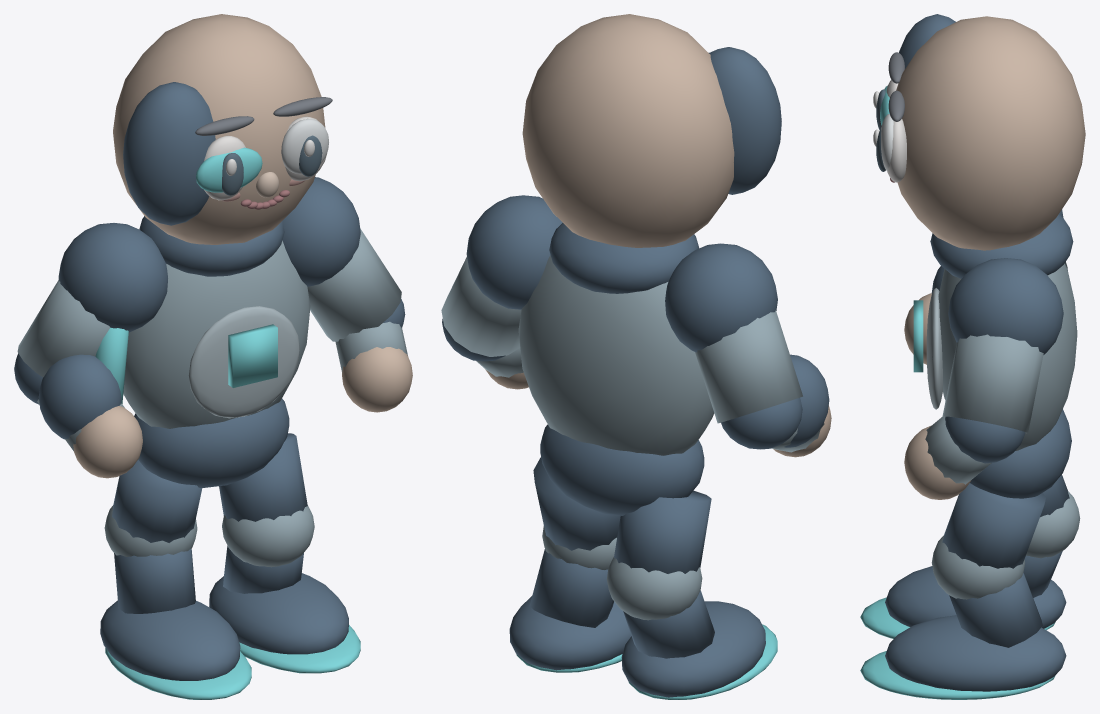
Rendered from 08_cyborg.glb.
3 renders of one model, left to right at view 1: azimuth 30°, elevation 25°; view 2: azimuth 150°, elevation 25°; view 3: azimuth 270°, elevation 25°, orthographic. The views are drawn at different scales.
Parts seen in each view (by area): view 1: 08_cyborg_face_025, 08_cyborg_outfit-torso_001, 08_cyborg_robot-face_044, 08_cyborg_pauldron_009, 08_cyborg_oversized-boot_018, 08_cyborg_shorts_002, 08_cyborg_oversized-boot_023, 08_cyborg_chest-piece_004, 08_cyborg_pauldron_014, 08_cyborg_upper-arm_010, 08_cyborg_upper-leg_015, 08_cyborg_robot-hand_047 (+22 smaller); view 2: 08_cyborg_face_025, 08_cyborg_outfit-torso_001, 08_cyborg_shorts_002, 08_cyborg_pauldron_009, 08_cyborg_pauldron_014, 08_cyborg_upper-arm_005, 08_cyborg_oversized-boot_018, 08_cyborg_robot-face_044, 08_cyborg_upper-leg_015, 08_cyborg_collar_003, 08_cyborg_oversized-boot_023, 08_cyborg_upper-arm_010 (+9 smaller); view 3: 08_cyborg_face_025, 08_cyborg_oversized-boot_023, 08_cyborg_pauldron_014, 08_cyborg_upper-arm_010, 08_cyborg_upper-leg_020, 08_cyborg_outfit-torso_001, 08_cyborg_shorts_002, 08_cyborg_lower-leg_022, 08_cyborg_oversized-boot_018, 08_cyborg_collar_003, 08_cyborg_knee_021, 08_cyborg_elbow_011 (+15 smaller).
Part boxes in pixels (box(x1,y1,x2,y2)): 08_cyborg_face_025: box(113, 14, 325, 244); 08_cyborg_outfit-torso_001: box(123, 240, 310, 428); 08_cyborg_robot-face_044: box(123, 82, 215, 225); 08_cyborg_pauldron_009: box(58, 223, 167, 332); 08_cyborg_oversized-boot_018: box(100, 600, 240, 680); 08_cyborg_shorts_002: box(134, 398, 289, 487); 08_cyborg_oversized-boot_023: box(209, 573, 348, 654); 08_cyborg_chest-piece_004: box(188, 306, 299, 418); 08_cyborg_pauldron_014: box(282, 177, 360, 286); 08_cyborg_upper-arm_010: box(307, 229, 401, 341); 08_cyborg_upper-leg_015: box(112, 460, 202, 542); 08_cyborg_robot-hand_047: box(38, 354, 121, 439); 08_cyborg_face_025: box(522, 14, 734, 247); 08_cyborg_outfit-torso_001: box(518, 255, 714, 455); 08_cyborg_shorts_002: box(540, 424, 704, 515); 08_cyborg_pauldron_009: box(665, 243, 777, 352); 08_cyborg_pauldron_014: box(466, 195, 562, 309); 08_cyborg_upper-arm_005: box(695, 310, 802, 423); 08_cyborg_oversized-boot_018: box(621, 601, 765, 697); 08_cyborg_robot-face_044: box(709, 47, 781, 194); 08_cyborg_upper-leg_015: box(614, 490, 711, 573); 08_cyborg_collar_003: box(549, 223, 699, 293); 08_cyborg_oversized-boot_023: box(509, 596, 631, 670); 08_cyborg_upper-arm_010: box(441, 257, 521, 356); 08_cyborg_face_025: box(896, 16, 1085, 250); 08_cyborg_oversized-boot_023: box(885, 615, 1066, 691); 08_cyborg_pauldron_014: box(948, 258, 1063, 354); 08_cyborg_upper-arm_010: box(942, 334, 1043, 433); 08_cyborg_upper-leg_020: box(942, 483, 1045, 568); 08_cyborg_outfit-torso_001: box(938, 263, 1077, 450); 08_cyborg_shorts_002: box(970, 409, 1071, 498); 08_cyborg_lower-leg_022: box(949, 573, 1042, 647); 08_cyborg_oversized-boot_018: box(885, 566, 1066, 628); 08_cyborg_collar_003: box(930, 214, 1073, 278); 08_cyborg_knee_021: box(931, 535, 1025, 599); 08_cyborg_elbow_011: box(945, 416, 1025, 463).
Bounding box in the file's own units: 1.52 × 2.55 × 0.82.
